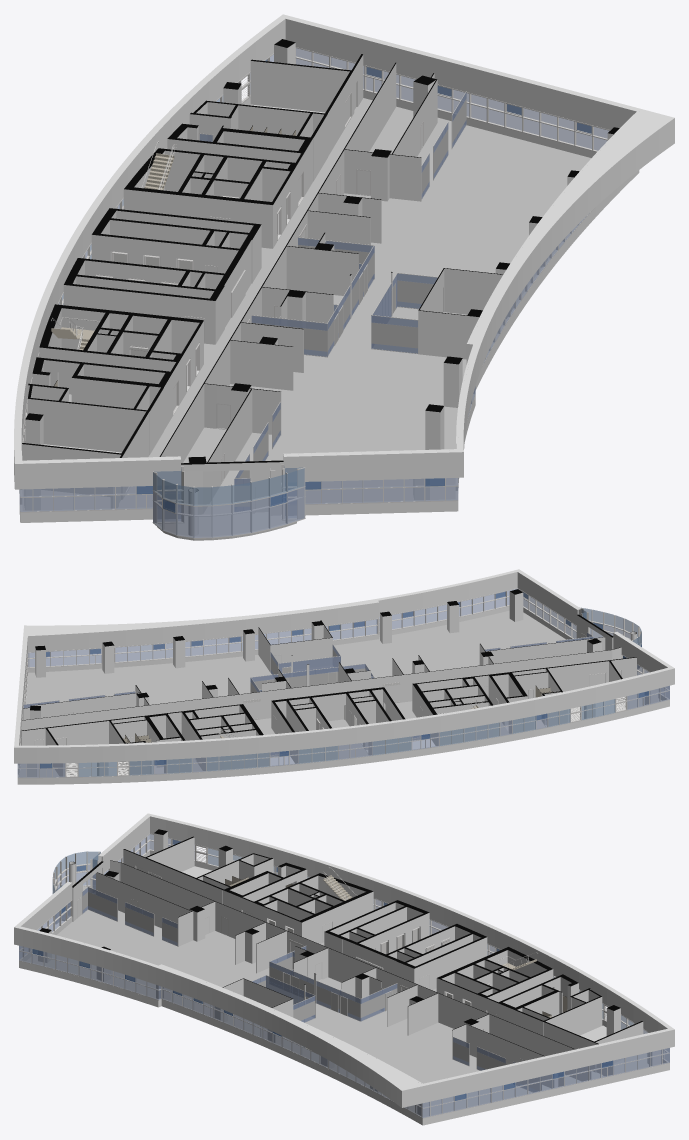
3 views of the same model, one above another, from view 1: azimuth 30°, elevation 25°; view 2: azimuth 150°, elevation 25°; view 3: azimuth 270°, elevation 25° (orthographic). The views are drawn at different scales.
Visible parts, largest first — view 1: A1-19F-Wall1, A1-19F-Floor, A1-19F-Dry Wall, A1-19F-In Dry Wall, A1-19F-Glass1, A1-19F-Glass Wall, A1-19F-Column, A1-19F-Frame, A1-19F-Door, A1-19F-Glass2, A1-19F-Wall2, A1-19F-Stairs (+2 smaller); view 2: A1-19F-Wall1, A1-19F-In Dry Wall, A1-19F-Floor, A1-19F-Dry Wall, A1-19F-Glass1, A1-19F-Frame, A1-19F-Glass2, A1-19F-Column, A1-19F-Glass Wall, A1-19F-Door, A1-19F-Glass3, A1-19F-Vent (+1 smaller); view 3: A1-19F-Wall1, A1-19F-Floor, A1-19F-Dry Wall, A1-19F-In Dry Wall, A1-19F-Glass1, A1-19F-Glass Wall, A1-19F-Frame, A1-19F-Column, A1-19F-Door, A1-19F-Glass2, A1-19F-Glass3, A1-19F-Elevator (+2 smaller).
Part boxes in pixels (box(x1,y1,x2,y2)): A1-19F-Wall1: box(21, 54, 511, 514); A1-19F-Floor: box(22, 98, 591, 540); A1-19F-Dry Wall: box(14, 14, 674, 489); A1-19F-In Dry Wall: box(19, 17, 639, 522); A1-19F-Glass1: box(19, 48, 608, 537); A1-19F-Glass Wall: box(234, 91, 466, 511); A1-19F-Column: box(24, 39, 619, 535); A1-19F-Frame: box(19, 47, 610, 538); A1-19F-Door: box(119, 82, 443, 512); A1-19F-Glass2: box(62, 96, 304, 505); A1-19F-Wall2: box(181, 460, 283, 515); A1-19F-Stairs: box(51, 141, 176, 350); A1-19F-Wall1: box(21, 620, 636, 776); A1-19F-In Dry Wall: box(17, 571, 669, 784); A1-19F-Floor: box(20, 610, 661, 776); A1-19F-Dry Wall: box(14, 569, 674, 763); A1-19F-Glass1: box(17, 588, 669, 777); A1-19F-Frame: box(17, 588, 669, 778); A1-19F-Glass2: box(78, 607, 641, 776); A1-19F-Column: box(27, 589, 657, 776); A1-19F-Glass Wall: box(23, 632, 593, 708); A1-19F-Door: box(34, 633, 621, 760); A1-19F-Glass3: box(40, 591, 648, 768); A1-19F-Vent: box(66, 696, 626, 777); A1-19F-Wall1: box(96, 836, 643, 1087); A1-19F-Floor: box(26, 866, 648, 1115); A1-19F-Dry Wall: box(14, 813, 674, 1107); A1-19F-In Dry Wall: box(19, 815, 669, 1125); A1-19F-Glass1: box(19, 834, 669, 1117); A1-19F-Glass Wall: box(82, 887, 541, 1092); A1-19F-Frame: box(19, 833, 669, 1118); A1-19F-Column: box(38, 829, 660, 1116); A1-19F-Door: box(77, 866, 602, 1074); A1-19F-Glass2: box(52, 848, 633, 1029); A1-19F-Glass3: box(32, 839, 613, 1100); A1-19F-Elevator: box(267, 911, 489, 1005).
Bounding box in the file's own units: 71.25 × 5.2 × 71.71.
